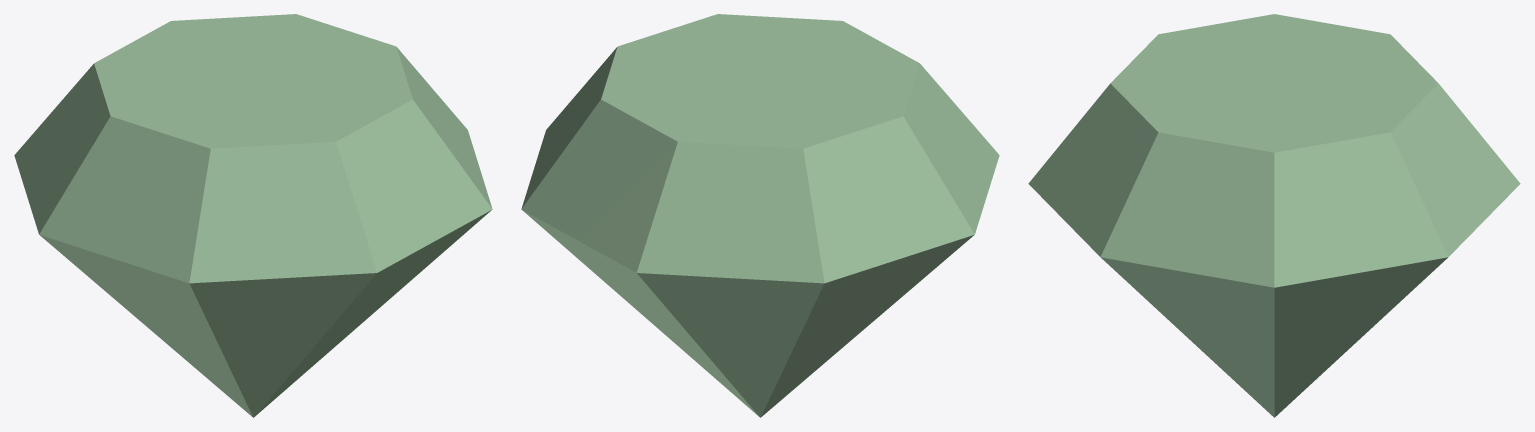
File: jewel.glb
3 views of the same model, side by side, from view 1: azimuth 30°, elevation 25°; view 2: azimuth 150°, elevation 25°; view 3: azimuth 270°, elevation 25° (orthographic).
Parts seen in each view (by area): view 1: Mesh_Mesh_head_geo.001_lambert2SG.001; view 2: Mesh_Mesh_head_geo.001_lambert2SG.001; view 3: Mesh_Mesh_head_geo.001_lambert2SG.001.
Part boxes in pixels (box(x1,y1,x2,y2)): Mesh_Mesh_head_geo.001_lambert2SG.001: box(14, 14, 492, 417); Mesh_Mesh_head_geo.001_lambert2SG.001: box(521, 14, 999, 417); Mesh_Mesh_head_geo.001_lambert2SG.001: box(1028, 14, 1520, 417).
Bounding box in the file's own units: 0.02 × 0.015 × 0.02.
